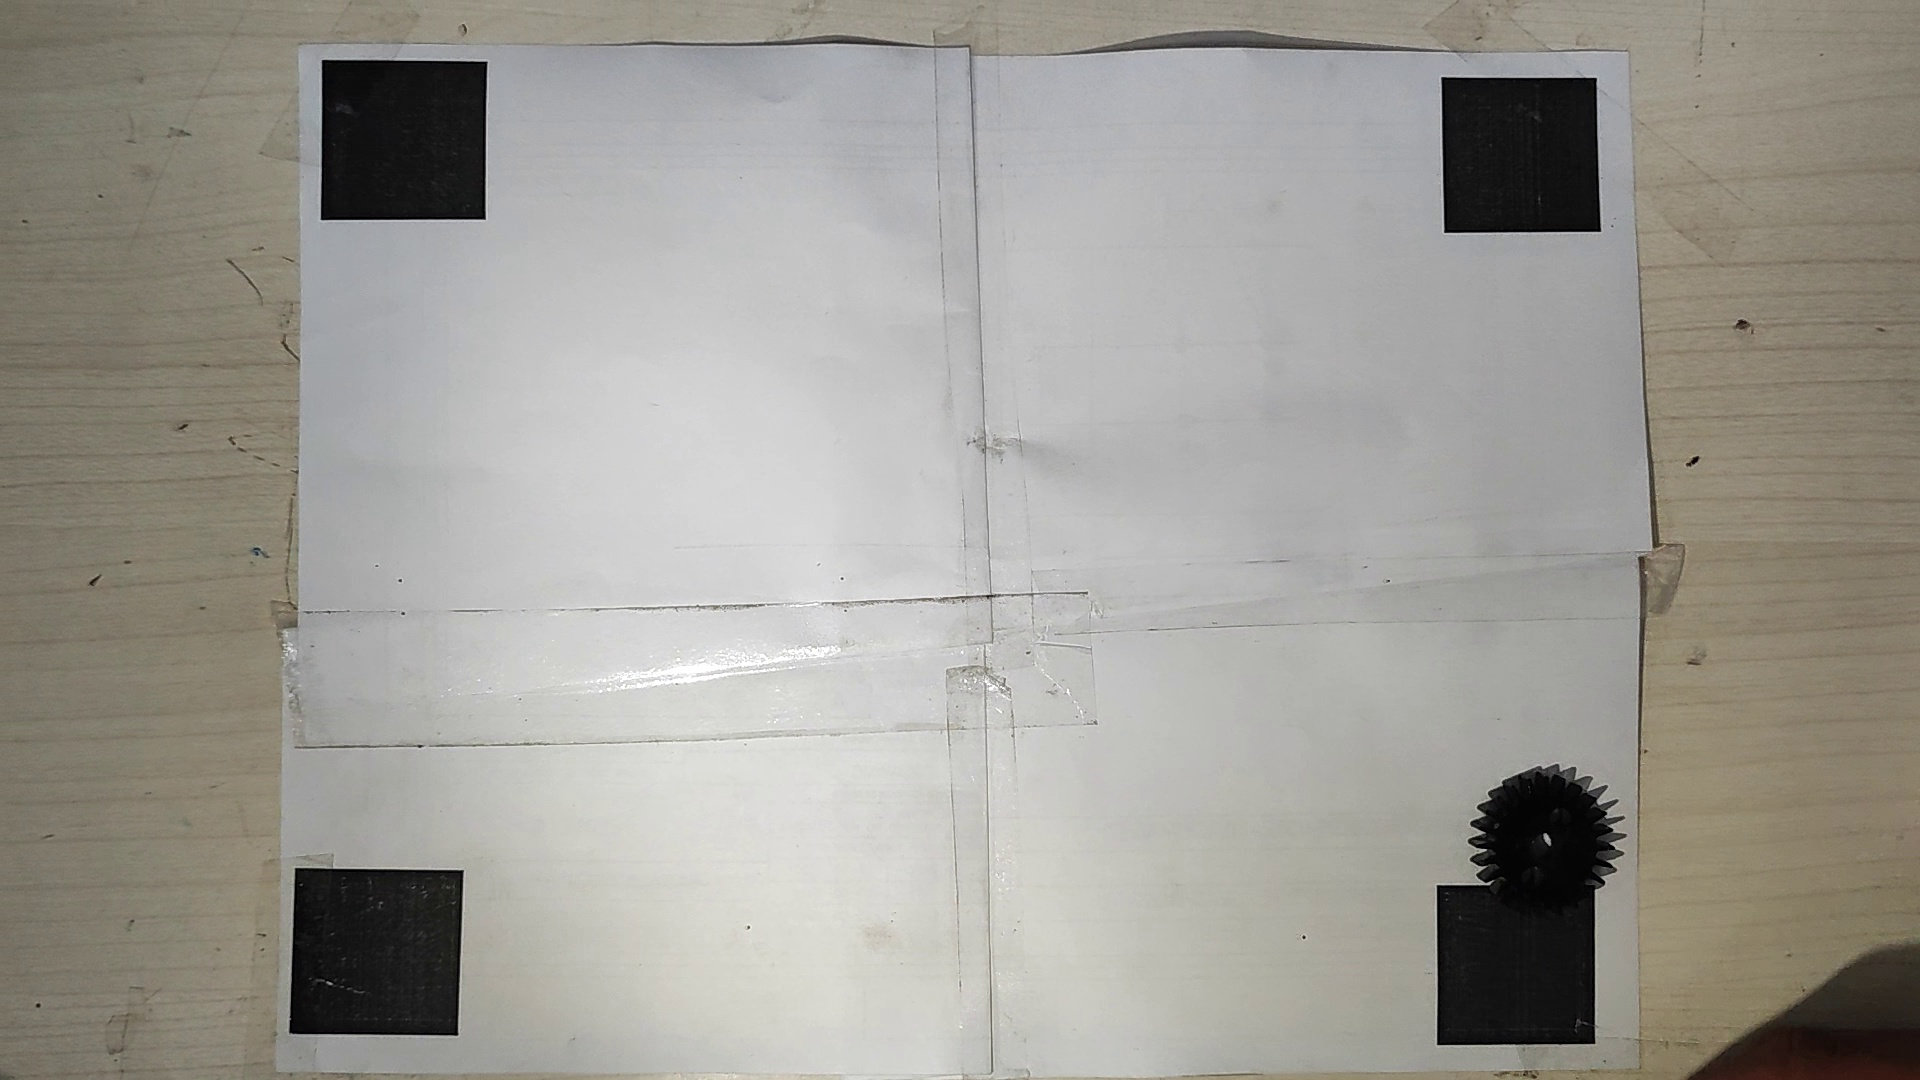Gear: (1470, 758, 1623, 909)
